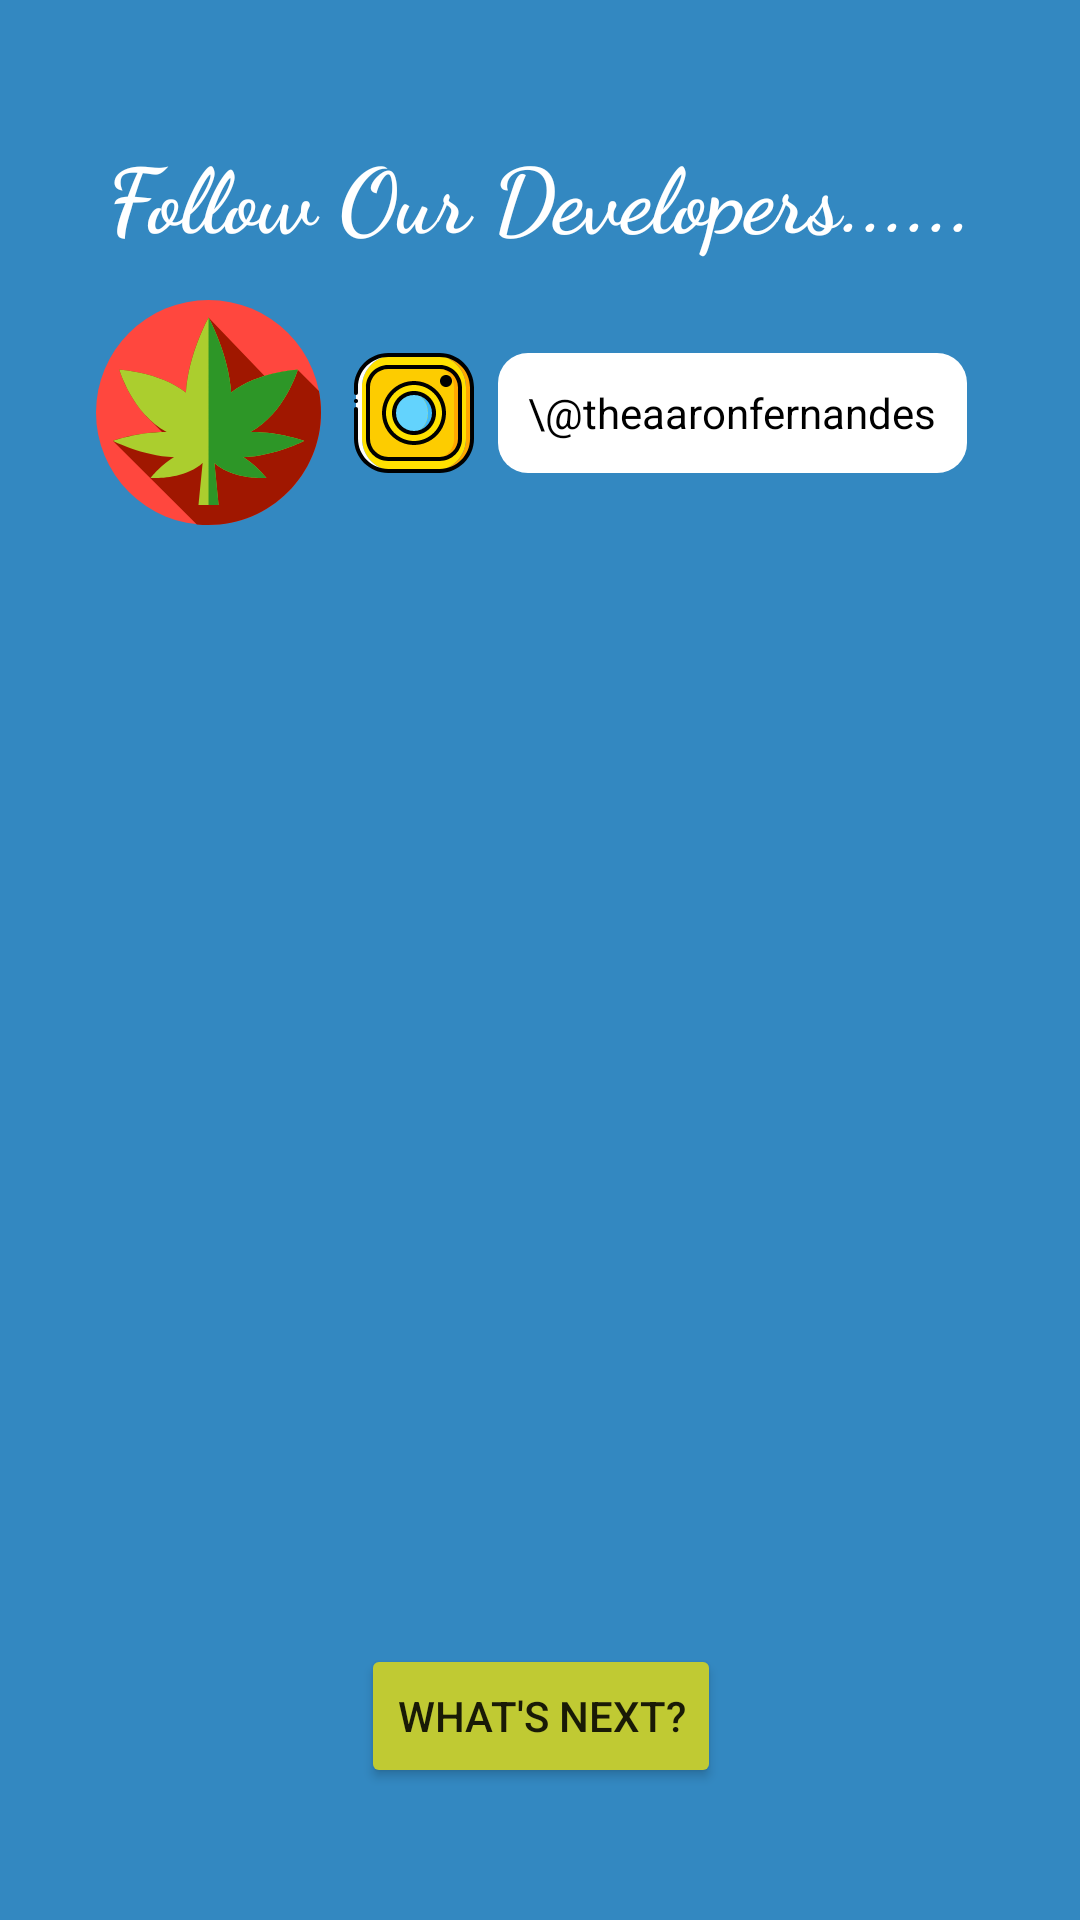

Named icons in this screenshot (1080x1920) and their bounding boxes, (x1, y1, x2, y2):
marijuana: (96, 300, 321, 525)
